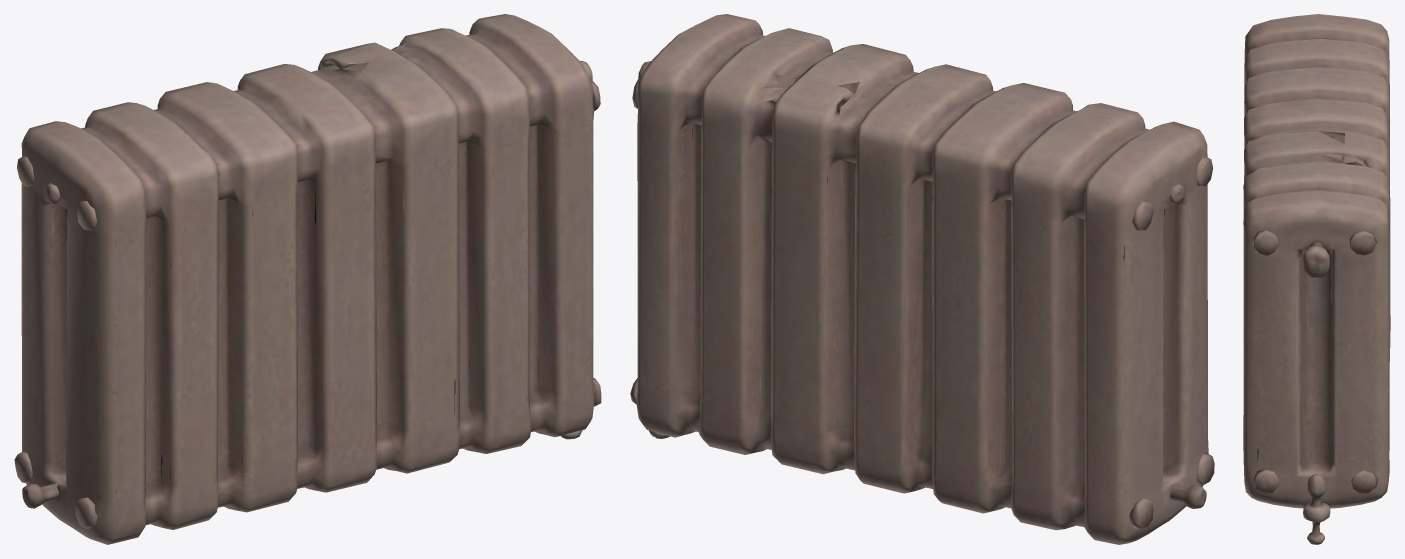
The model's file is white_radiator.glb.
3 renders of one model, left to right at view 1: azimuth 30°, elevation 25°; view 2: azimuth 150°, elevation 25°; view 3: azimuth 270°, elevation 25°, orthographic. The views are drawn at different scales.
Visible parts, largest first — view 1: geometry_0; view 2: geometry_0; view 3: geometry_0.
Boxes of the visible parts, bbox=[...] form: geometry_0: bbox=[14, 14, 601, 544]; geometry_0: bbox=[630, 14, 1214, 544]; geometry_0: bbox=[1243, 14, 1390, 544].
Bounding box in the file's own units: 1 × 0.707 × 0.2827.
Materials: 1 (1 with a texture image).
